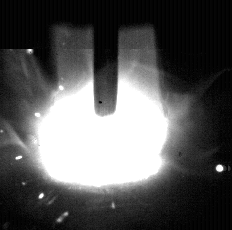arame: (95, 0, 119, 117)
poca: (38, 0, 167, 230)
